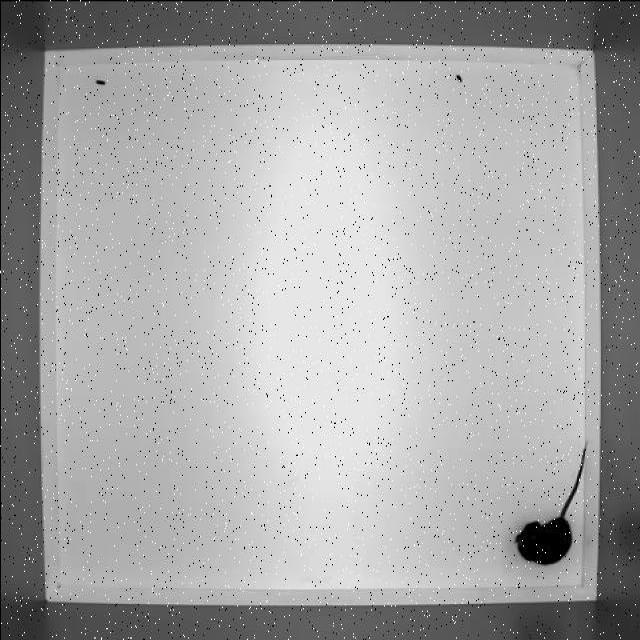rat: (497, 440, 594, 573)
